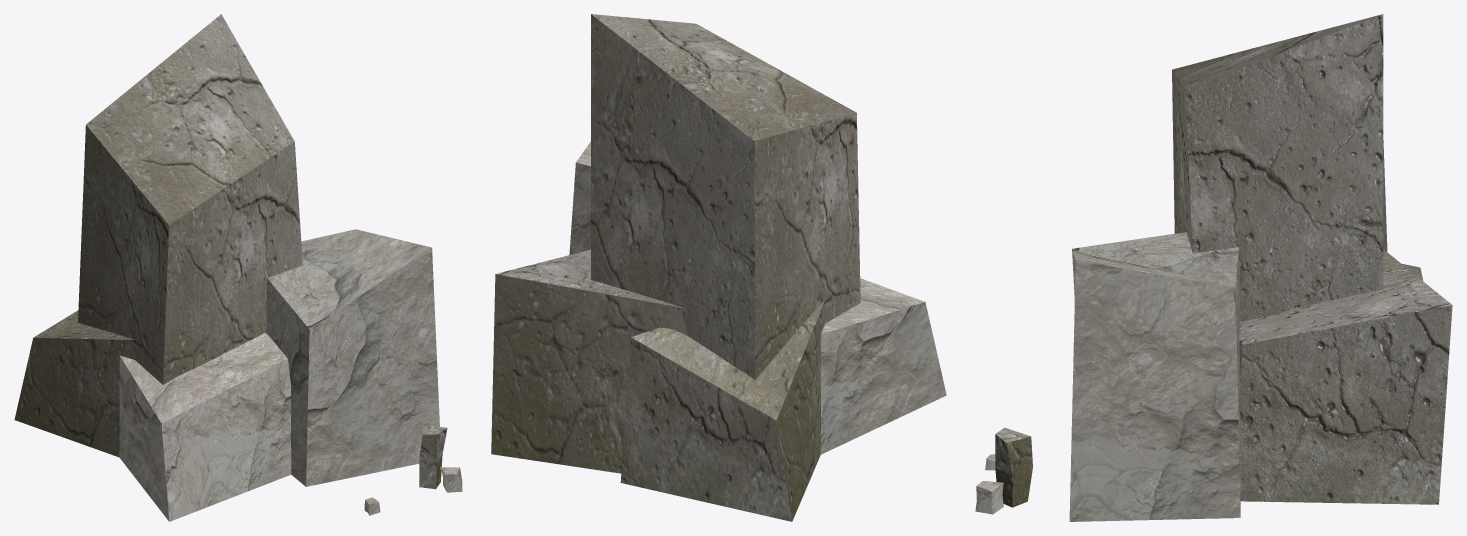
Rendered from stones.FBX.
3 renders of one model, left to right at view 1: azimuth 30°, elevation 25°; view 2: azimuth 150°, elevation 25°; view 3: azimuth 270°, elevation 25°, orthographic. The views are drawn at different scales.
Parts seen in each view (by area): view 1: Box001, Box002, Box003, Box004, Box006; view 2: Box001, Box004, Box005, Box003, Box002; view 3: Box001, Box002, Box005, Box006, Box007.
Part boxes in pixels (x1=…): Box001: x1=78, y1=14, x2=302, y2=384; Box002: x1=266, y1=229, x2=439, y2=486; Box003: x1=119, y1=332, x2=291, y2=521; Box004: x1=14, y1=310, x2=134, y2=457; Box006: x1=419, y1=425, x2=447, y2=489; Box001: x1=591, y1=14, x2=860, y2=379; Box004: x1=620, y1=300, x2=824, y2=521; Box005: x1=491, y1=249, x2=687, y2=473; Box003: x1=820, y1=278, x2=946, y2=454; Box002: x1=569, y1=141, x2=590, y2=254; Box001: x1=1172, y1=14, x2=1387, y2=321; Box002: x1=1069, y1=232, x2=1240, y2=521; Box005: x1=1239, y1=249, x2=1452, y2=504; Box006: x1=995, y1=427, x2=1032, y2=507; Box007: x1=975, y1=481, x2=1003, y2=514.
Size of the model in its own units: 47.72 by 61.92 by 57.86.
Materials: 2 (2 with a texture image).
